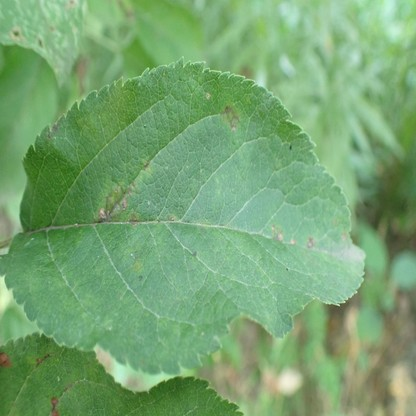frogeye_leaf_spot: (50, 396, 59, 415), (0, 353, 11, 368)
powdery_mildew: (307, 236, 363, 259)
scab: (23, 227, 105, 323), (199, 224, 259, 262), (95, 181, 126, 221), (220, 102, 243, 132), (28, 350, 54, 373), (64, 375, 82, 394), (138, 160, 154, 181), (270, 223, 285, 244), (272, 156, 283, 173), (127, 208, 139, 222), (125, 181, 138, 193), (166, 212, 181, 222), (133, 259, 143, 273)
